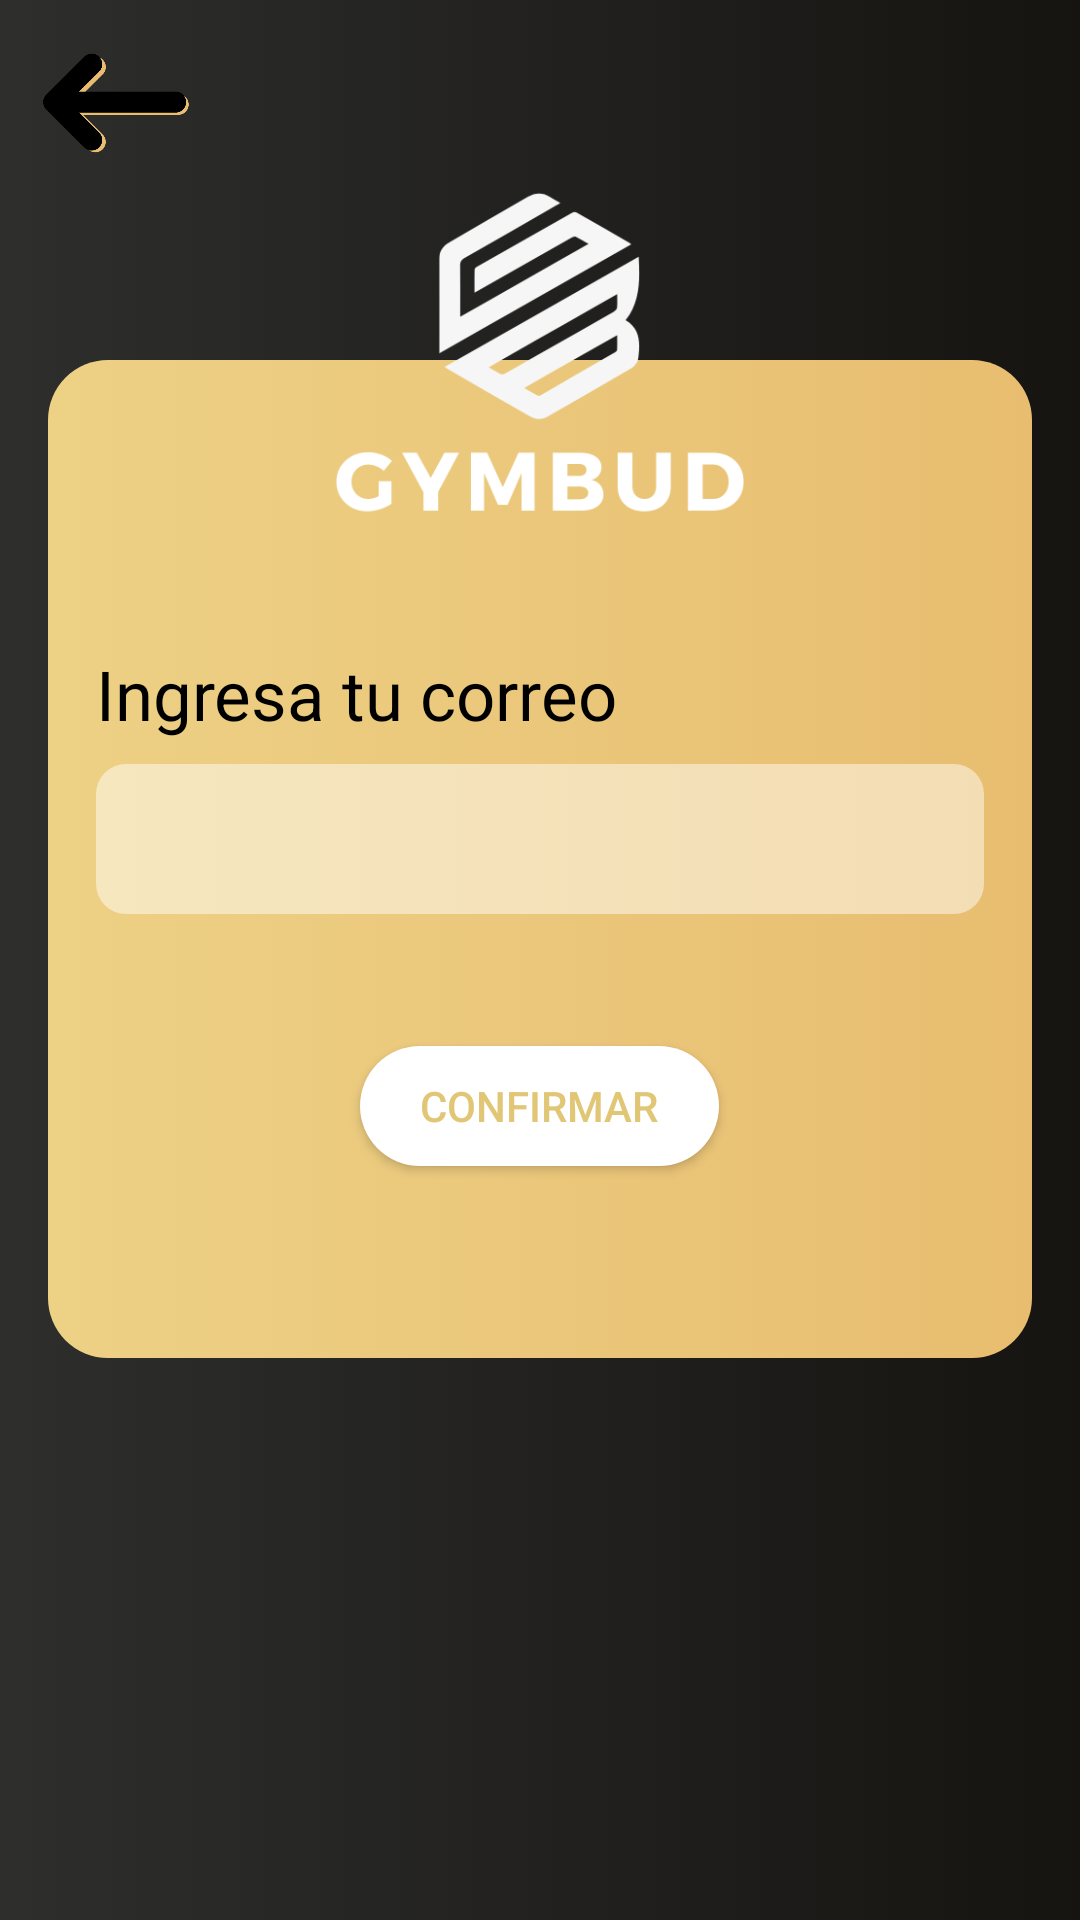

Screen size 1080×1920. Icon name, then its box in pixels as detection(x1, y1, x2, y2):
flechanegrodorado: detection(43, 54, 189, 153)
